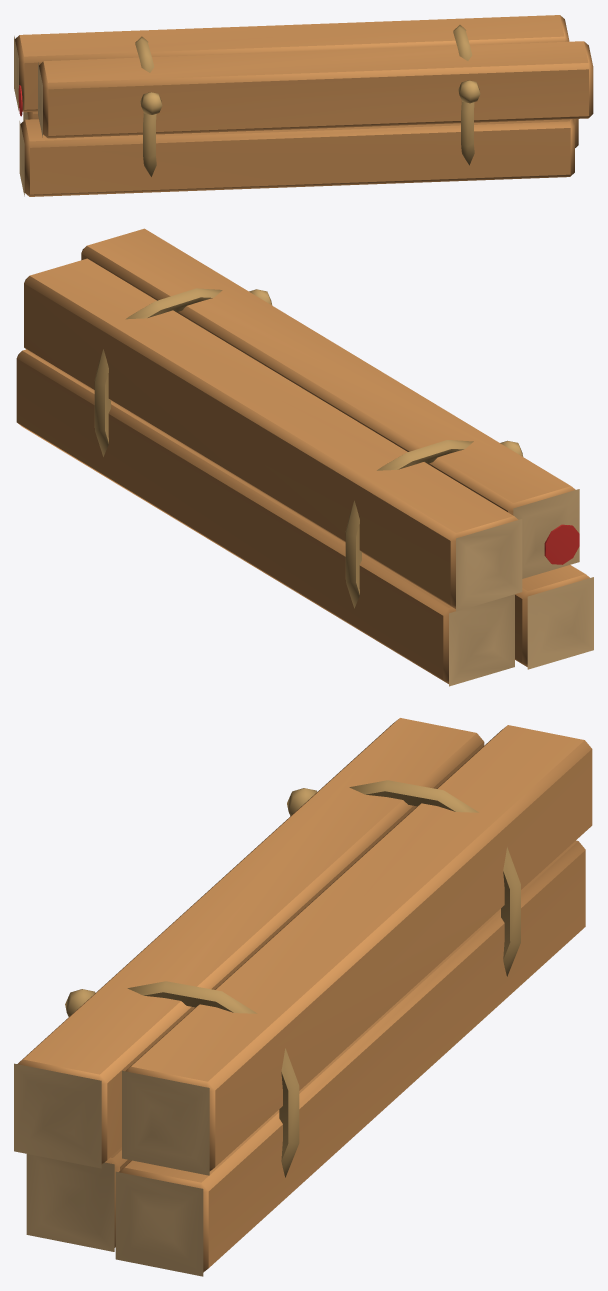
Rendered from timber.glb.
The picture shows the model from 3 angles, top to bottom: view 1: azimuth 30°, elevation 25°; view 2: azimuth 150°, elevation 25°; view 3: azimuth 270°, elevation 25°; orthographic projection. The views are drawn at different scales.
Visible parts, largest first — view 1: Timber Fresh wood, Timber Rope, Timber Wood end; view 2: Timber Fresh wood, Timber Wood end, Timber Rope, Timber Red paint; view 3: Timber Fresh wood, Timber Wood end, Timber Rope.
Part boxes in pixels (x1,y1,x2,y2): Timber Fresh wood: (15,15,593,196); Timber Rope: (135,25,480,176); Timber Wood end: (14,36,42,196); Timber Fresh wood: (16,228,589,683); Timber Wood end: (449,489,593,686); Timber Rope: (94,288,523,608); Timber Red paint: (544,524,579,564); Timber Fresh wood: (17,718,592,1272); Timber Wood end: (14,1063,209,1276); Timber Rope: (65,780,520,1177).
Bounding box in the file's own units: 0.9147 × 0.2329 × 0.5747.
